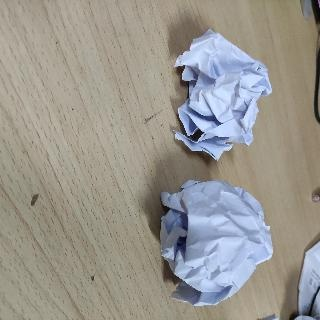8/可回收垃圾/纸: (159, 179, 274, 306), (172, 29, 273, 161)
